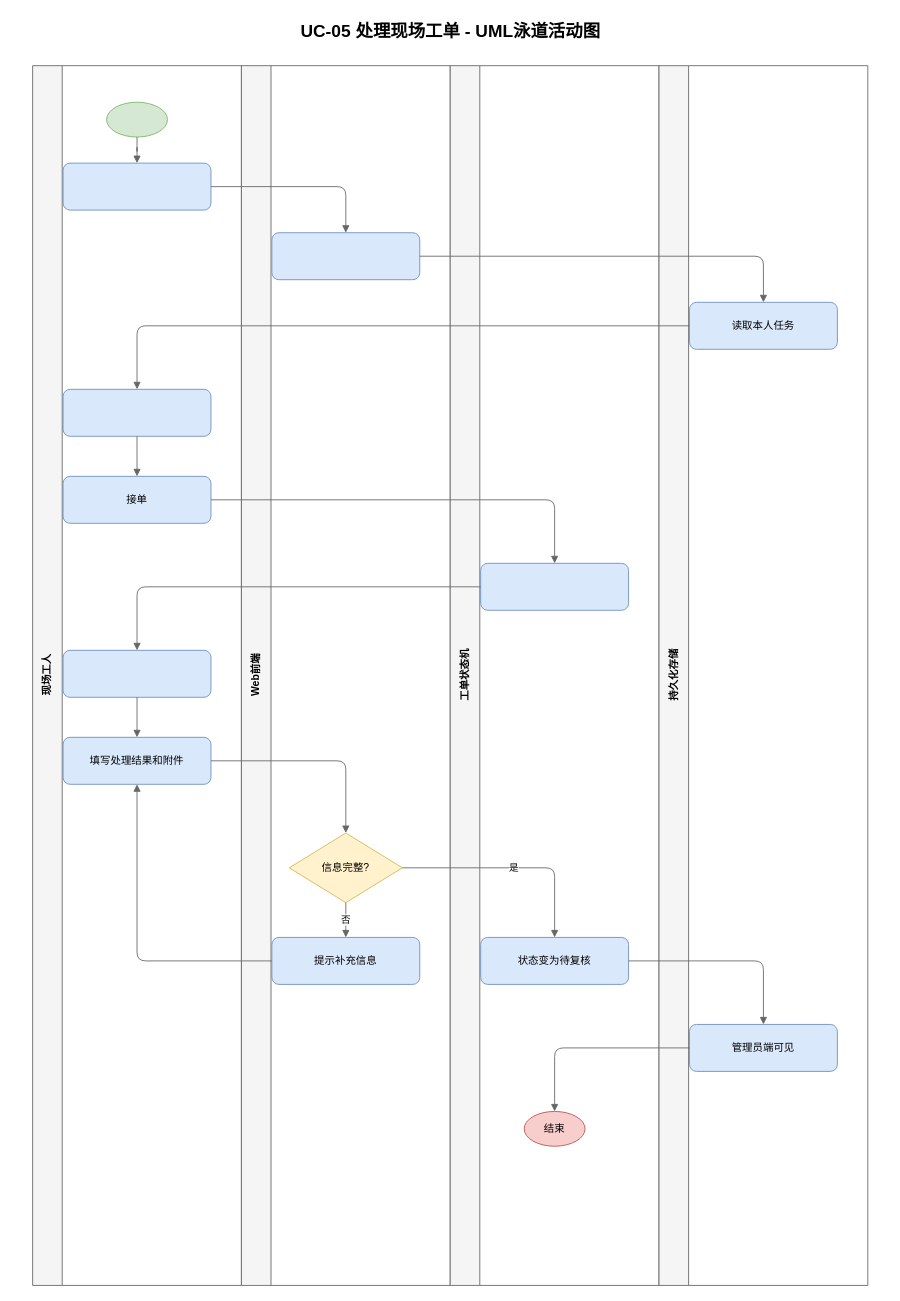
This 900x1301 diagram has some shape labels left out. The shapes that lost their labels are listed below. From the top down, each one's centre as x and y in pixels, then its label:
At [136,119]: "开始".
At [136,186]: "登录我的工单".
At [345,256]: "校验身份和归属".
At [136,412]: "查看工单详情".
At [554,586]: "状态变为处理中".
At [136,673]: "现场排查设备".
